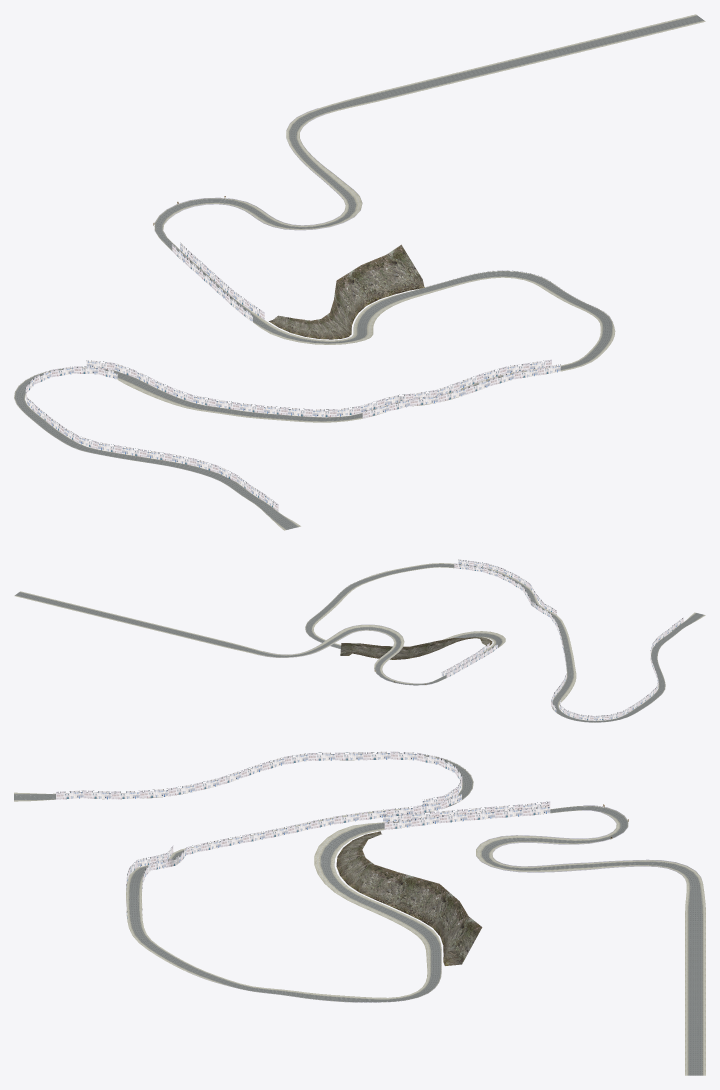
Rendered from stage-cape-env.glb.
The picture shows the model from 3 angles, top to bottom: view 1: azimuth 30°, elevation 25°; view 2: azimuth 150°, elevation 25°; view 3: azimuth 270°, elevation 25°; orthographic projection. The views are drawn at different scales.
Visible parts, largest first — view 1: env part 1 chunk 1,-3, env part 0 chunk 3,-4, env part 1 chunk 0,-3, env part 0 chunk 1,-4, env part 1 chunk 1,-1, env part 0 chunk 1,-3, env part 0 chunk 2,-4, env part 1 chunk 0,-2, env part 0 chunk 2,-3, env part 1 chunk -1,-2, env part 0 chunk 0,-2, env part 0 chunk -1,-2 (+2 smaller); view 2: env part 1 chunk 1,-3, env part 0 chunk 3,-4, env part 0 chunk 1,-4, env part 1 chunk 1,-1, env part 1 chunk 0,-3, env part 0 chunk 1,-3, env part 0 chunk 2,-2, env part 0 chunk 0,-2, env part 0 chunk 2,-4, env part 0 chunk 2,-1, env part 0 chunk -1,-2, env part 0 chunk -1,-3 (+5 smaller); view 3: env part 1 chunk 1,-3, env part 0 chunk 3,-4, env part 1 chunk 0,-3, env part 0 chunk 1,-3, env part 0 chunk 1,-4, env part 0 chunk 2,-1, env part 1 chunk -1,-2, env part 1 chunk 0,-2, env part 0 chunk 2,-4, env part 0 chunk 2,-2, env part 0 chunk 2,-3, env part 1 chunk 1,-1 (+5 smaller).
Boxes of the visible parts, <box> form: env part 1 chunk 1,-3: <box>269,197,424,339</box>; env part 0 chunk 3,-4: <box>383,14,705,97</box>; env part 1 chunk 0,-3: <box>51,242,264,395</box>; env part 0 chunk 1,-4: <box>154,145,359,244</box>; env part 1 chunk 1,-1: <box>337,366,514,418</box>; env part 0 chunk 1,-3: <box>212,196,401,343</box>; env part 0 chunk 2,-4: <box>286,90,392,152</box>; env part 1 chunk 0,-2: <box>173,389,336,416</box>; env part 0 chunk 2,-3: <box>392,271,550,302</box>; env part 1 chunk -1,-2: <box>31,408,171,464</box>; env part 0 chunk 0,-2: <box>173,399,336,422</box>; env part 0 chunk -1,-2: <box>28,414,171,463</box>; env part 1 chunk 1,-3: <box>340,624,492,659</box>; env part 0 chunk 3,-4: <box>14,591,221,644</box>; env part 0 chunk 1,-4: <box>310,629,441,685</box>; env part 1 chunk 1,-1: <box>483,564,556,625</box>; env part 1 chunk 0,-3: <box>441,643,578,718</box>; env part 0 chunk 1,-3: <box>345,625,502,657</box>; env part 0 chunk 2,-2: <box>311,573,383,621</box>; env part 0 chunk 0,-2: <box>558,625,576,681</box>; env part 0 chunk 2,-4: <box>215,640,314,657</box>; env part 0 chunk 2,-1: <box>380,563,495,576</box>; env part 0 chunk -1,-2: <box>632,663,665,711</box>; env part 0 chunk -1,-3: <box>551,698,637,722</box>; env part 1 chunk 1,-3: <box>336,831,518,965</box>; env part 0 chunk 3,-4: <box>685,916,705,1075</box>; env part 1 chunk 0,-3: <box>359,776,550,829</box>; env part 0 chunk 1,-3: <box>320,822,520,944</box>; env part 0 chunk 1,-4: <box>481,806,647,872</box>; env part 0 chunk 2,-1: <box>126,887,206,976</box>; env part 1 chunk -1,-2: <box>219,751,390,785</box>; env part 1 chunk 0,-2: <box>201,813,359,851</box>; env part 0 chunk 2,-4: <box>632,860,705,916</box>; env part 0 chunk 2,-2: <box>199,972,376,1002</box>; env part 0 chunk 2,-3: <box>376,943,441,1002</box>; env part 1 chunk 1,-1: <box>126,844,200,891</box>.
Size of the model in its own units: 1697 by 184 by 1191.
Materials: 7 (6 with a texture image).
